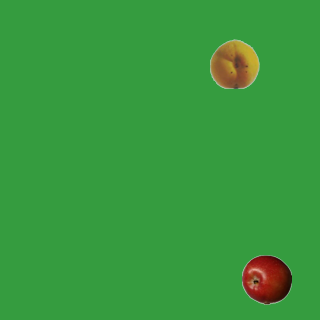Apple Braeburn: (241, 254, 291, 304)
Peach 2: (209, 38, 259, 88)
